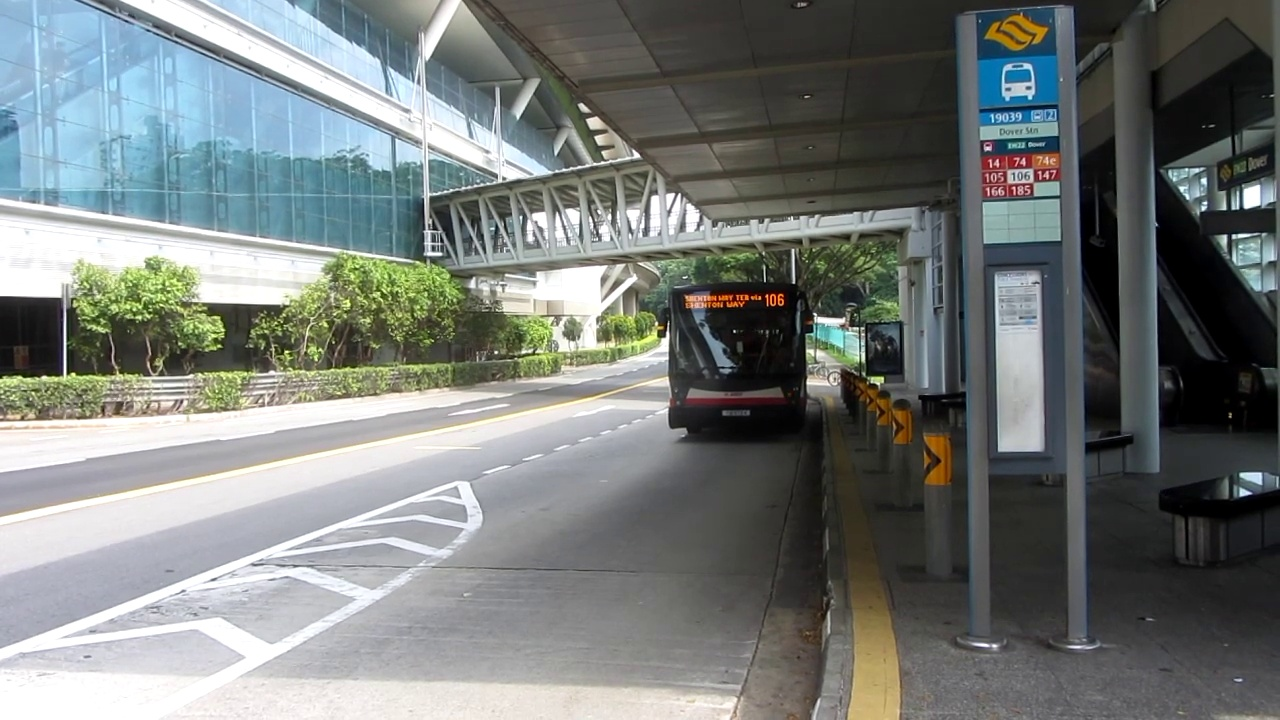bus panel: (680, 292, 787, 310)
